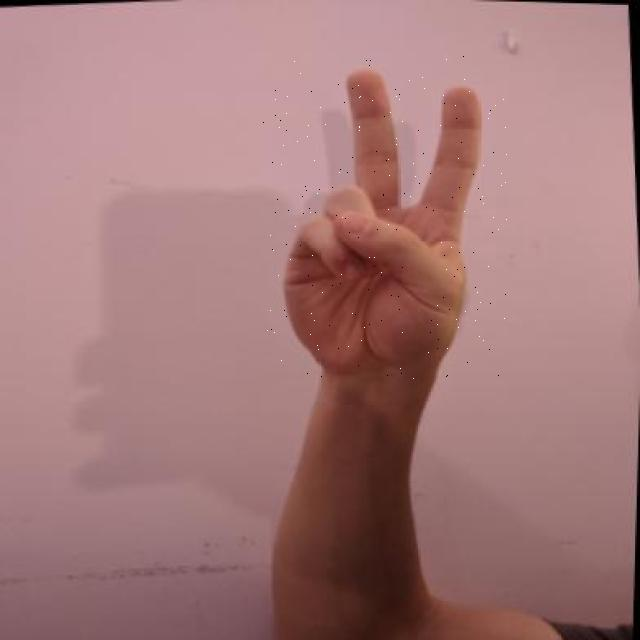V: (263, 53, 508, 380)
